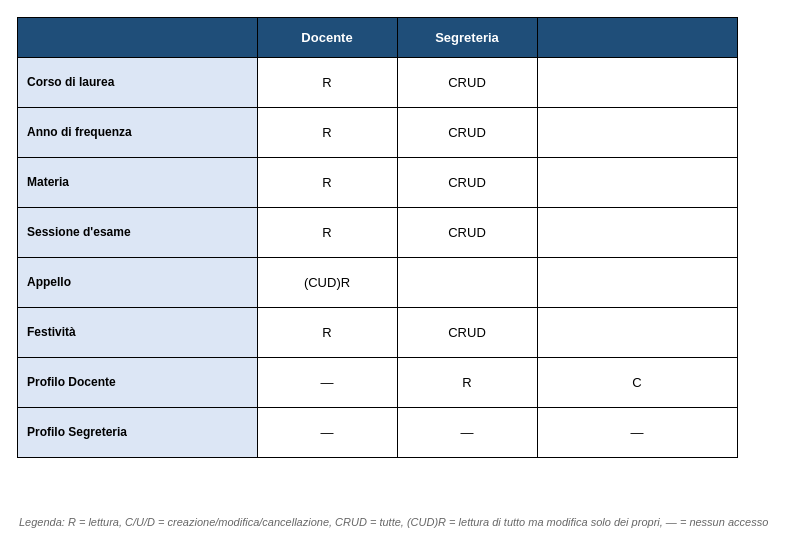
Image size: 786x555. Some labels were removed from this diagram. Here are the shapes that lost their labels. From the top down, the centre of each, then its label:
pixel 137 37: Entità
pixel 637 37: Utente Non Registrato
